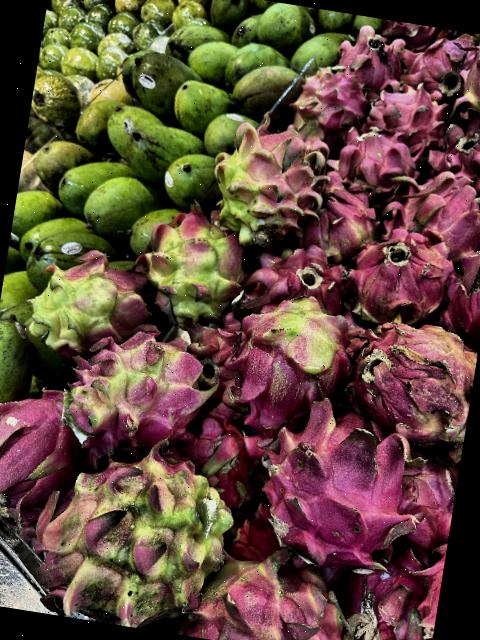buah-naga-belum-matang: (36, 441, 234, 638), (48, 331, 212, 458), (337, 309, 480, 447), (218, 292, 352, 431), (192, 540, 368, 640), (205, 108, 327, 244), (23, 242, 158, 356), (133, 202, 247, 326), (287, 63, 372, 152), (460, 33, 480, 129)
buah-naga-matang: (258, 392, 436, 586), (344, 208, 466, 324), (0, 383, 89, 528), (391, 160, 480, 281), (240, 239, 346, 317), (296, 174, 380, 264), (328, 121, 420, 195), (362, 76, 448, 155), (396, 29, 480, 101), (332, 25, 406, 89), (431, 116, 480, 198)
